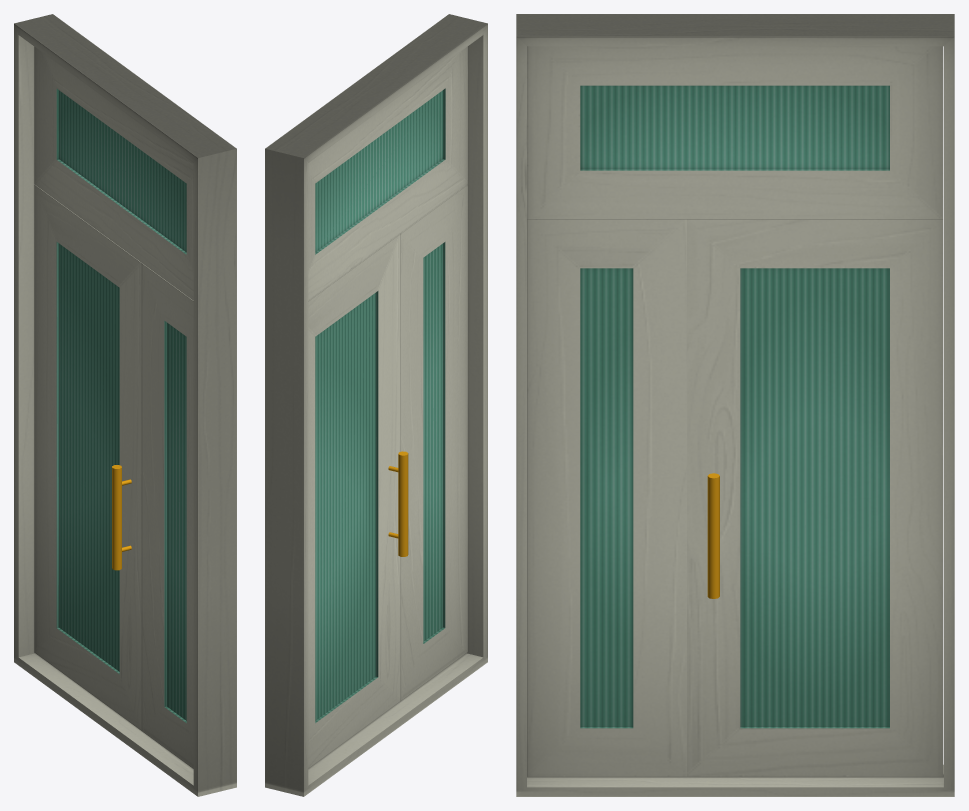
Rendered from school_props_door_big_root.FBX.
The picture shows the model from 3 angles, left to right: view 1: azimuth 30°, elevation 25°; view 2: azimuth 150°, elevation 25°; view 3: azimuth 270°, elevation 25°; orthographic projection. The views are drawn at different scales.
Parts seen in each view (by area): view 1: school_props_door_big_kos, school_props_door_big_door, school_props_door_small_doors, school_props_door_big_ruch; view 2: school_props_door_big_kos, school_props_door_big_door, school_props_door_small_doors, school_props_door_big_ruch; view 3: school_props_door_big_door, school_props_door_big_kos, school_props_door_small_doors, school_props_door_big_ruch.
Boxes of the visible parts, <box> form: school_props_door_big_kos: <box>14,14,236,796</box>; school_props_door_big_door: <box>34,184,141,730</box>; school_props_door_small_doors: <box>142,263,193,768</box>; school_props_door_big_ruch: <box>112,465,131,570</box>; school_props_door_big_kos: <box>265,14,487,796</box>; school_props_door_big_door: <box>308,233,400,768</box>; school_props_door_small_doors: <box>400,184,467,700</box>; school_props_door_big_ruch: <box>388,451,408,556</box>; school_props_door_big_door: <box>687,219,943,776</box>; school_props_door_big_kos: <box>516,14,954,796</box>; school_props_door_small_doors: <box>527,219,686,776</box>; school_props_door_big_ruch: <box>707,473,719,598</box>.
Bounding box in the file's own units: 22.77 × 314 × 164.
